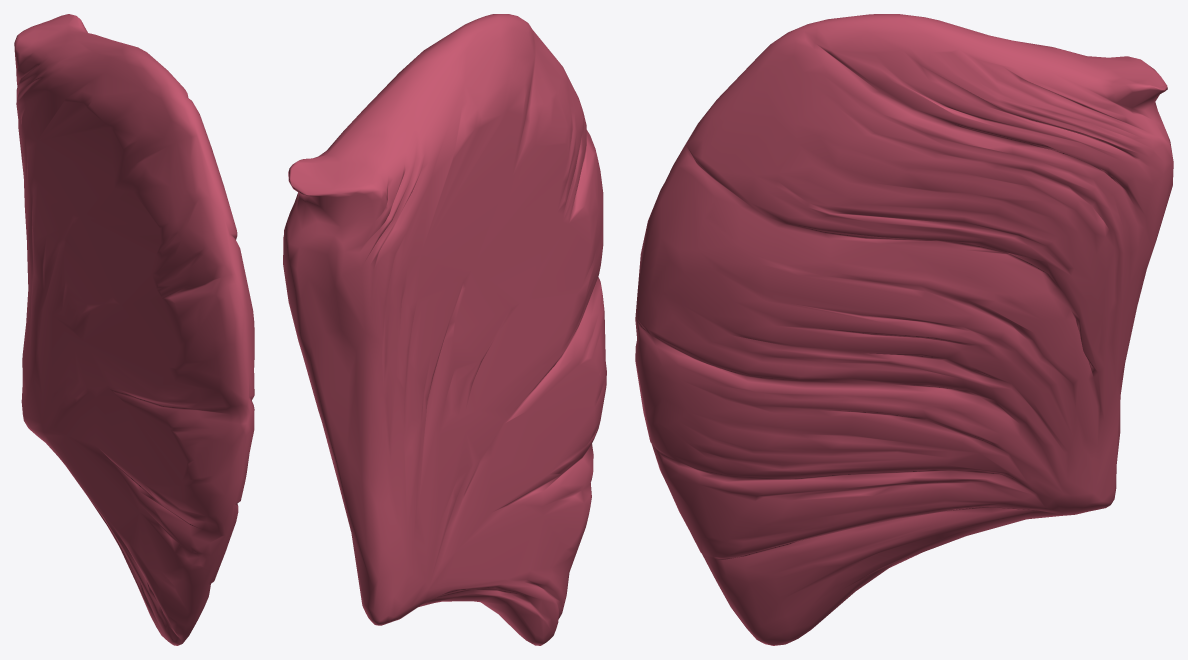
The picture shows the model from 3 angles, left to right: view 1: azimuth 30°, elevation 25°; view 2: azimuth 150°, elevation 25°; view 3: azimuth 270°, elevation 25°; orthographic projection. The views are drawn at different scales.
Parts seen in each view (by area): view 1: 左侧颏舌肌; view 2: 左侧颏舌肌; view 3: 左侧颏舌肌.
Part boxes in pixels (x1,y1,x2,y2): 左侧颏舌肌: [14, 14, 254, 645]; 左侧颏舌肌: [283, 14, 606, 645]; 左侧颏舌肌: [635, 14, 1173, 645].
Size of the model in its own units: 0.0112 by 0.0701 by 0.0533.
